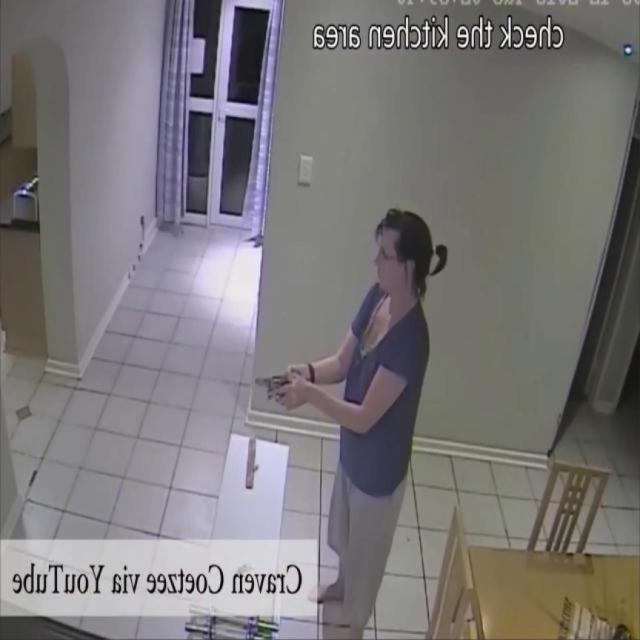pistol: (256, 369, 296, 403)
